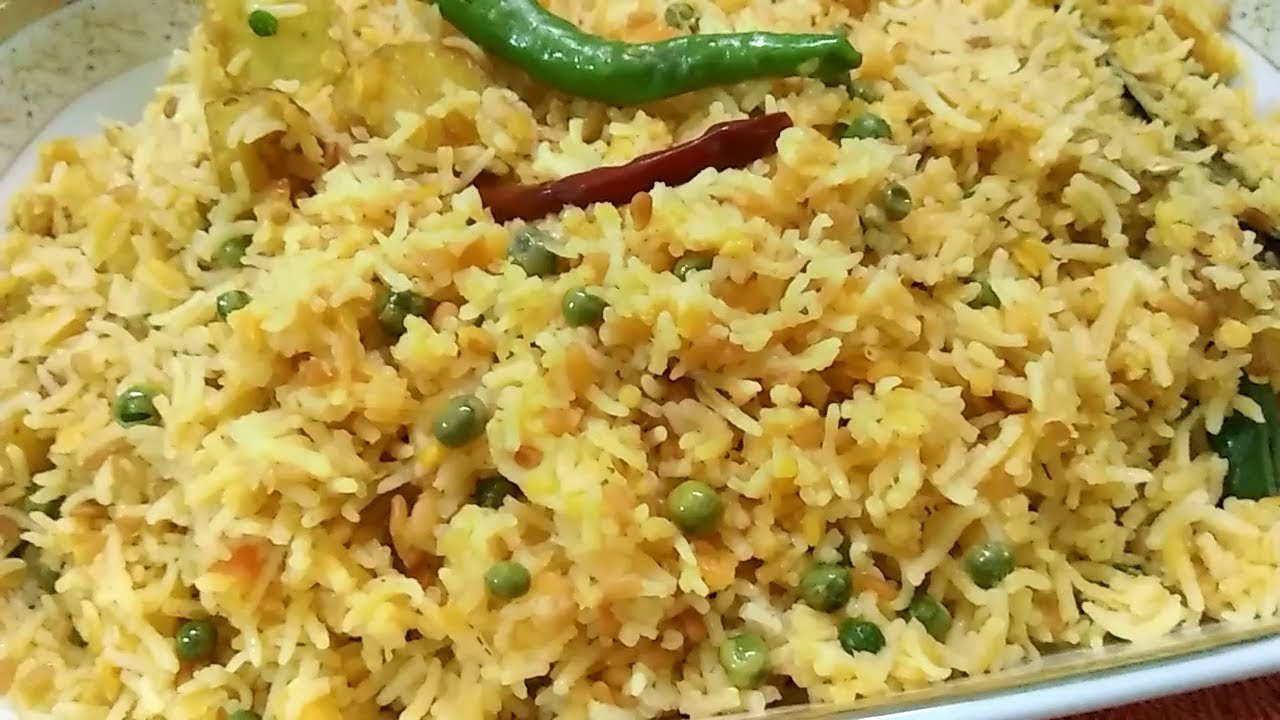khichuri: (66, 52, 1250, 671)
